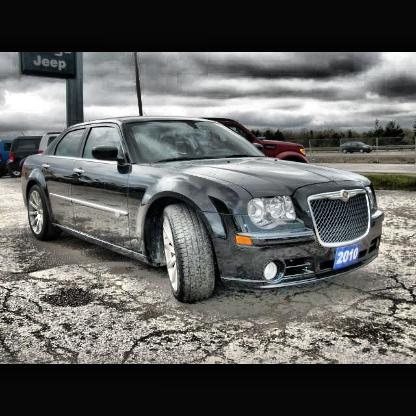Chrysler 300 SRT-8 2010: (22, 116, 386, 306)
